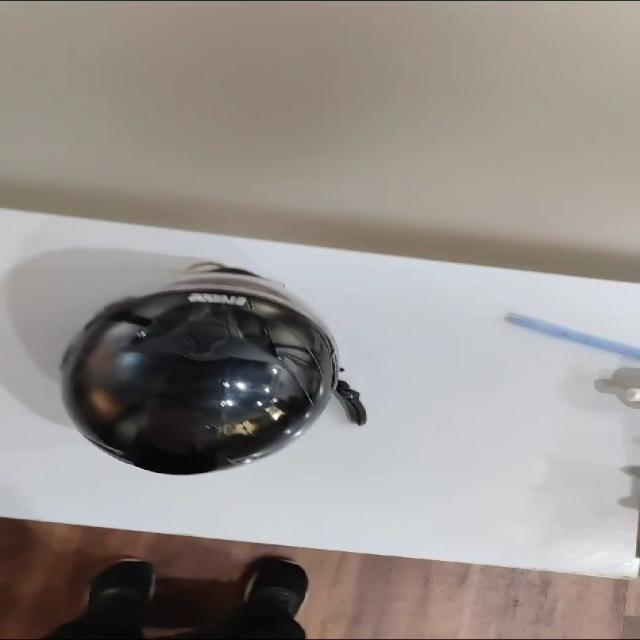helmet: (60, 272, 331, 480)
